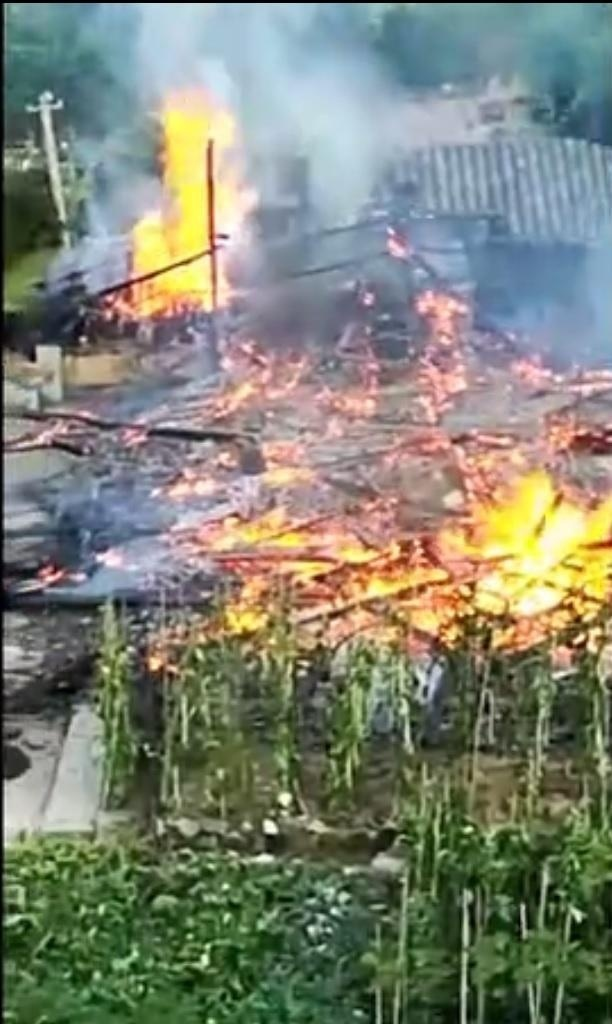fire: (170, 291, 607, 647), (124, 86, 244, 308)
